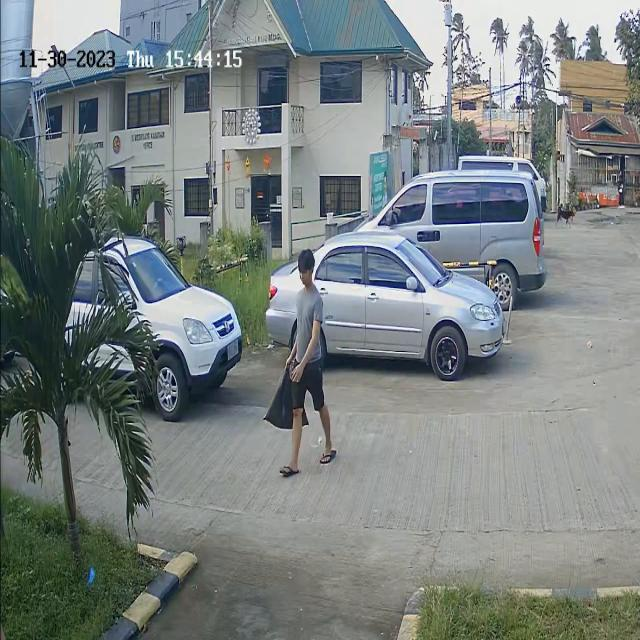garbage: (258, 351, 314, 440)
person: (289, 252, 326, 388)
